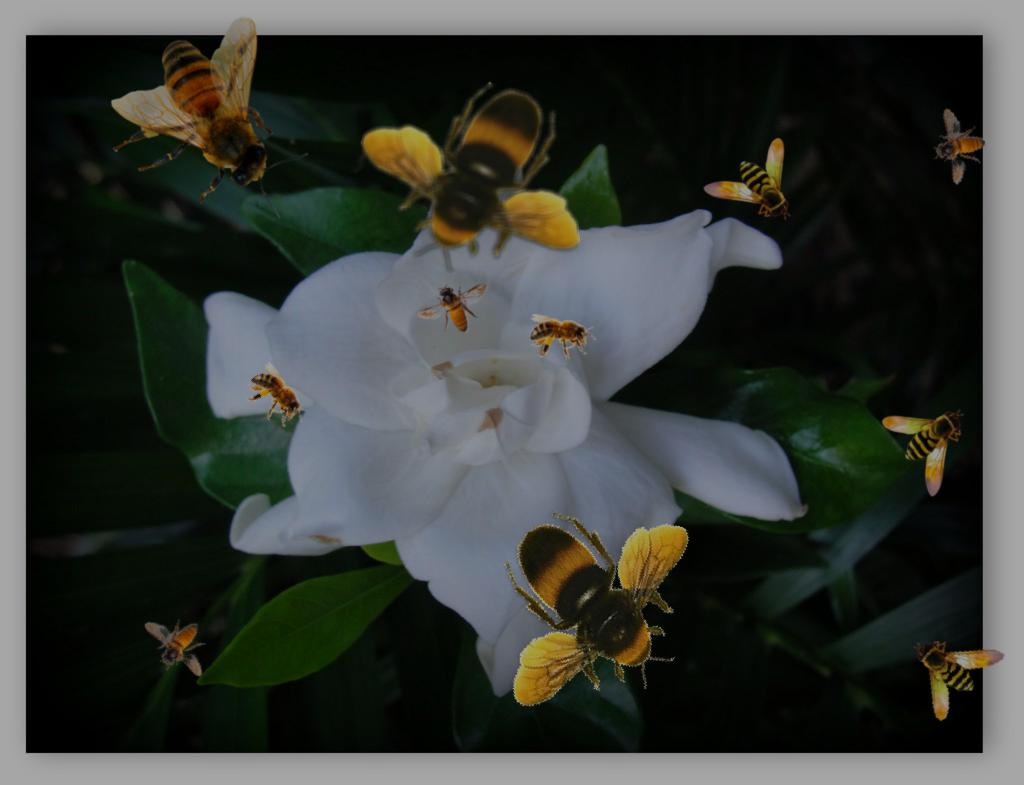Bee: (464, 478, 714, 747), (360, 82, 580, 273), (111, 16, 310, 220), (912, 624, 1016, 724), (703, 138, 791, 220), (882, 409, 964, 497), (142, 603, 218, 690), (238, 360, 318, 437), (925, 107, 993, 190), (417, 283, 488, 333), (530, 314, 596, 359)
